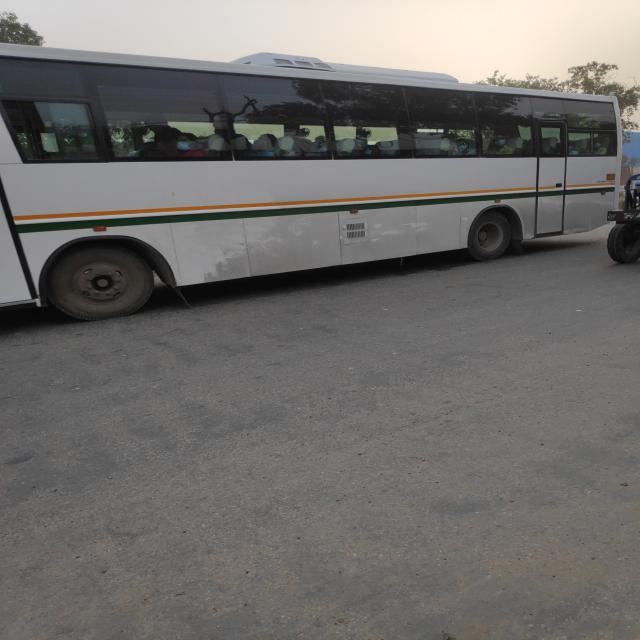Bus: (0, 45, 620, 320)
